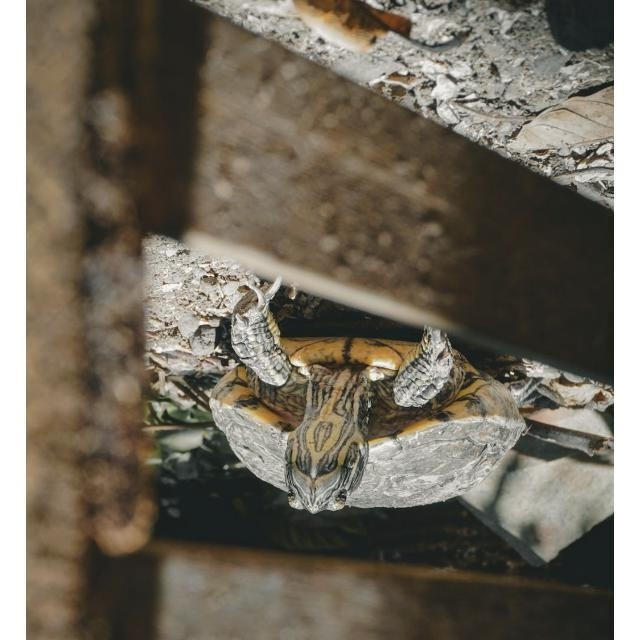turtle: (206, 278, 530, 511)
